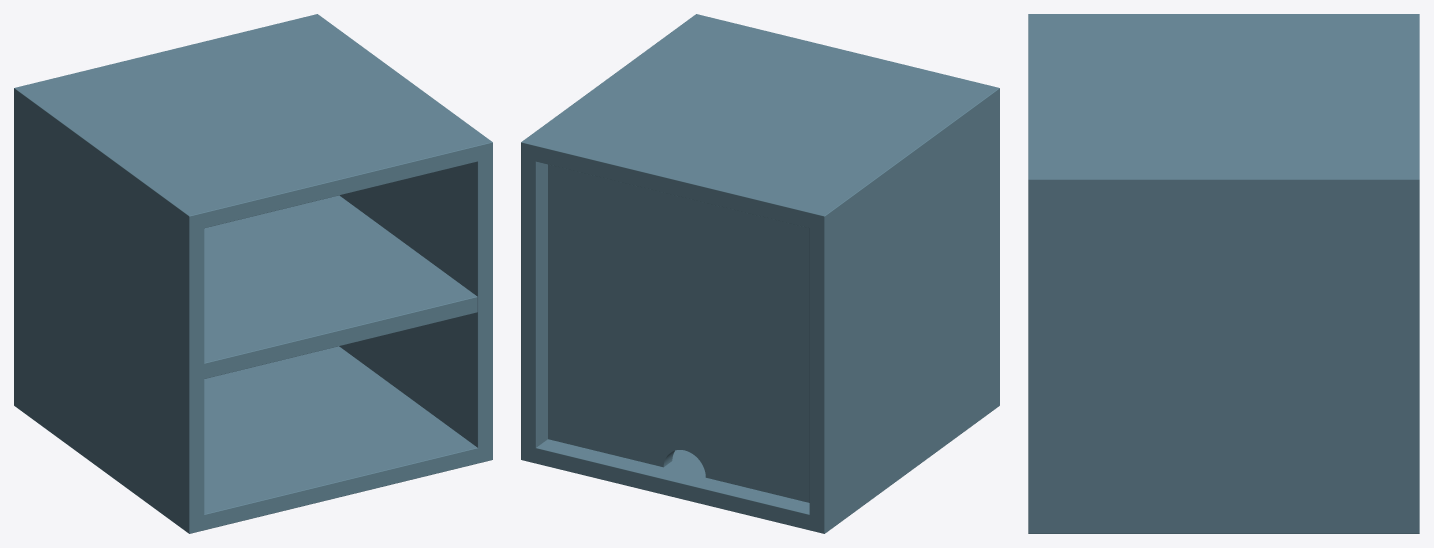
The model's file is MOD-1X1-S-B-AP-AC.glb.
3 views of the same model, side by side, from view 1: azimuth 30°, elevation 25°; view 2: azimuth 150°, elevation 25°; view 3: azimuth 270°, elevation 25° (orthographic). The views are drawn at different scales.
Size of the model in its own units: 360 by 360 by 360.
